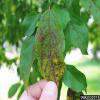Apple Scab Leaf: (34, 10, 74, 85)
